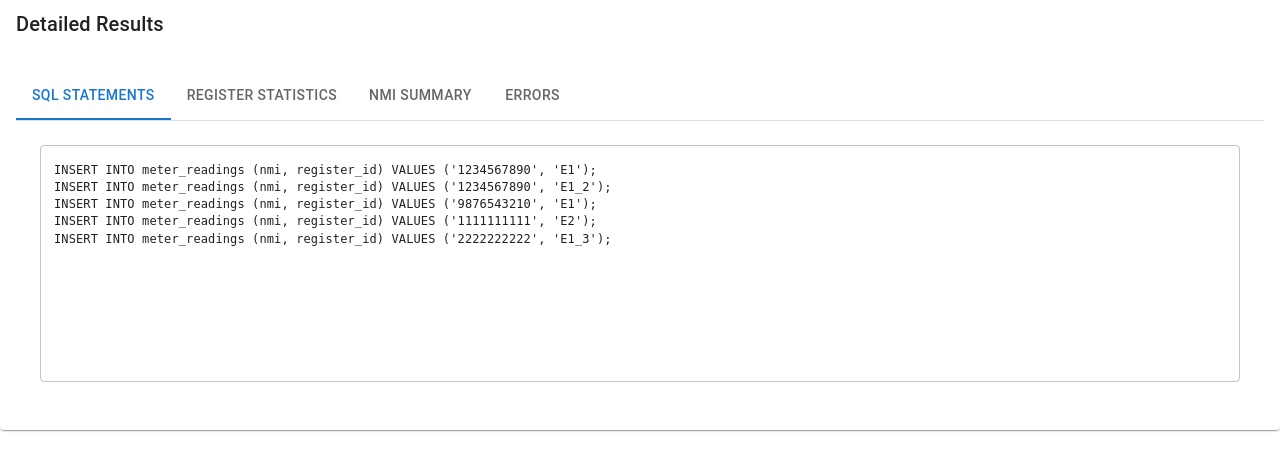
it: DetailedResults Component › Tab Navigation › shows correct content for each tab
The width and height of the screenshot is (1280, 449).
Expected: the text box showing "INSERT INTO meter_readings" is shown, left=54, top=162, right=1226, bottom=366
Click the tab "Register Statistics": (262, 96) left=171, top=72, right=353, bottom=120
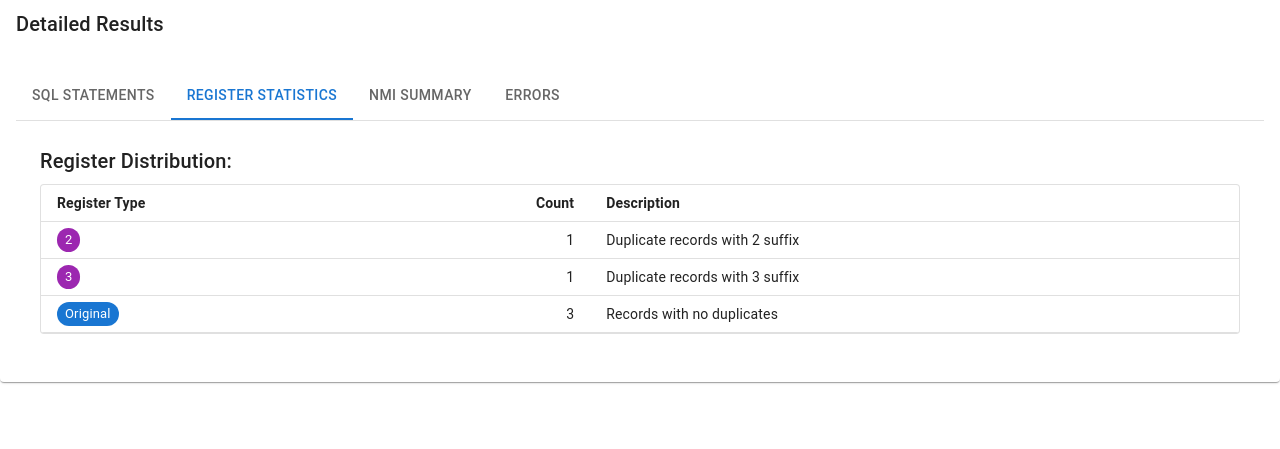
Expected: the heading "Register Distribution:" is shown, left=40, top=149, right=232, bottom=173
NMI Summary tab
Click the tab "NMI Summary": (420, 96) left=353, top=72, right=488, bottom=120
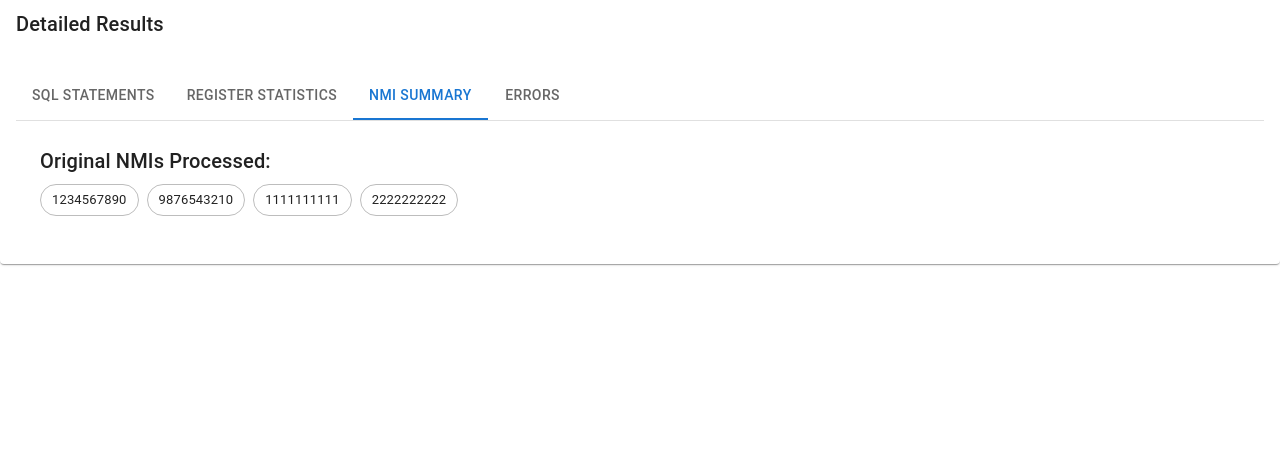
Expected: the heading "Original NMIs Processed:" is shown, left=40, top=149, right=271, bottom=173
Errors tab
Click the tab "Errors": (533, 96) left=488, top=72, right=578, bottom=120
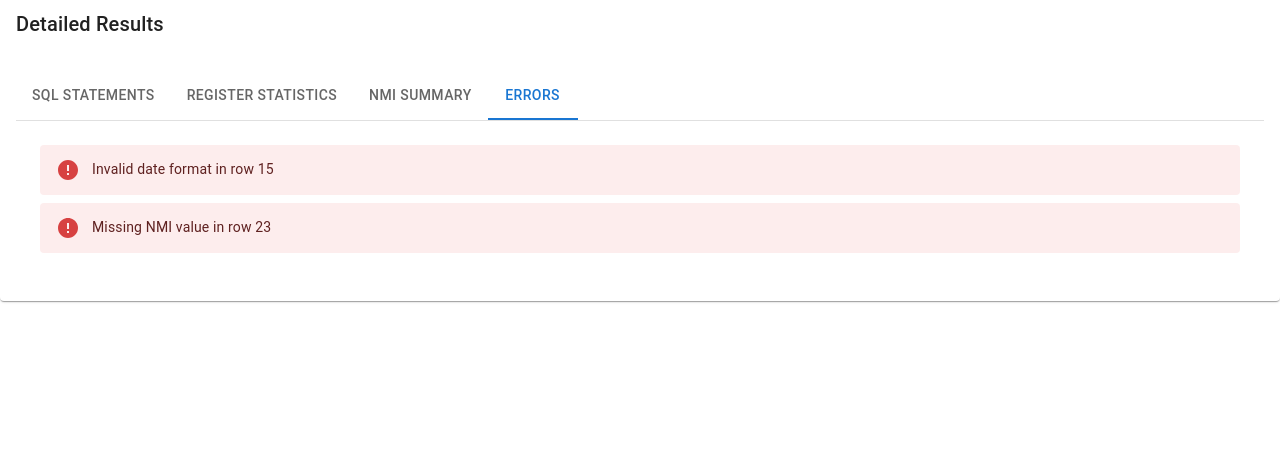
Expected: the text "Invalid date format in row 15" is shown, left=92, top=161, right=274, bottom=177
